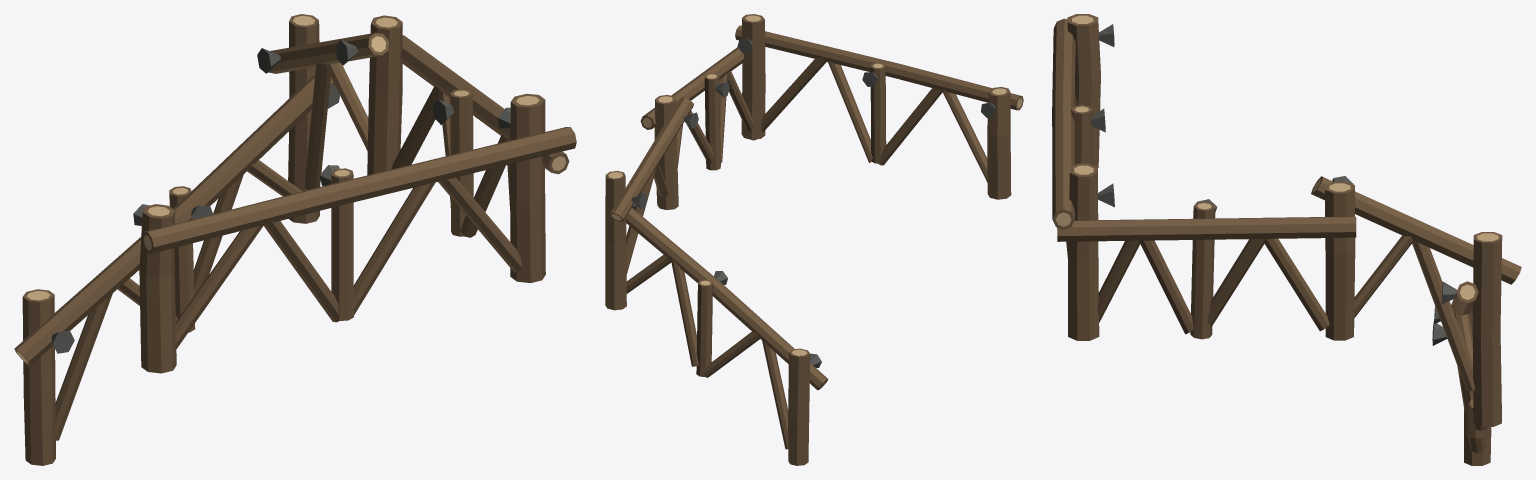
Rendered from rpgpp_ag_stairs_interior_02b_3m_handrail_02.fbx.
3 renders of one model, left to right at view 1: azimuth 30°, elevation 25°; view 2: azimuth 150°, elevation 25°; view 3: azimuth 270°, elevation 25°, orthographic. The views are drawn at different scales.
Parts seen in each view (by area): view 1: rpgpp_ag_stairs_interior_02b_3m_handrail_02; view 2: rpgpp_ag_stairs_interior_02b_3m_handrail_02; view 3: rpgpp_ag_stairs_interior_02b_3m_handrail_02.
Boxes of the visible parts, <box> form: rpgpp_ag_stairs_interior_02b_3m_handrail_02: <box>14,14,576,465</box>; rpgpp_ag_stairs_interior_02b_3m_handrail_02: <box>605,14,1023,465</box>; rpgpp_ag_stairs_interior_02b_3m_handrail_02: <box>1052,14,1521,465</box>.
Size of the model in its own units: 4.4 by 4.42 by 4.52.
